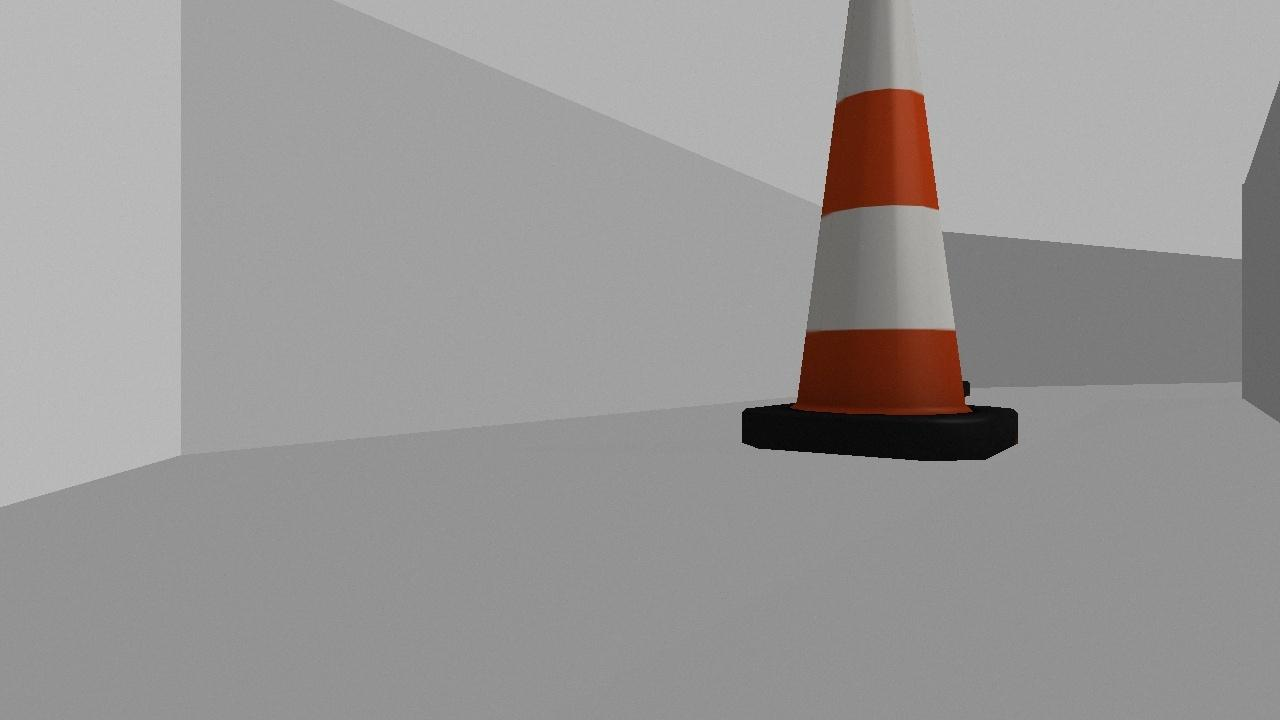cone_barrel: (740, 0, 1019, 461)
